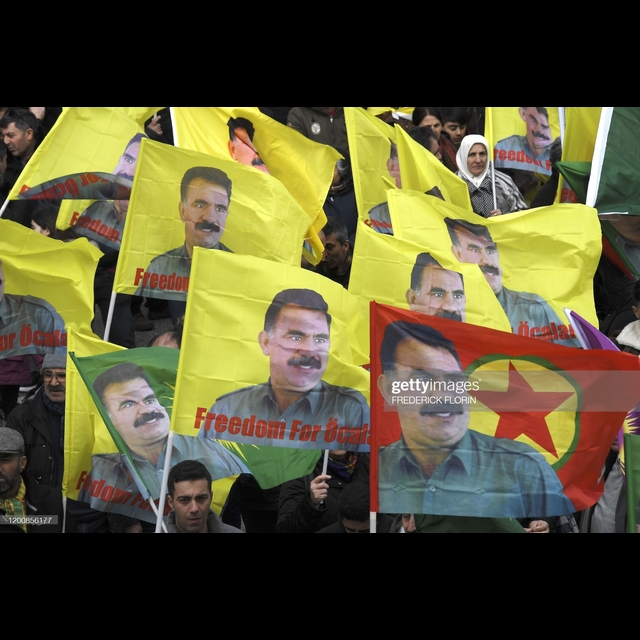APO: (250, 277, 340, 397), (164, 166, 243, 251), (92, 365, 168, 448)
